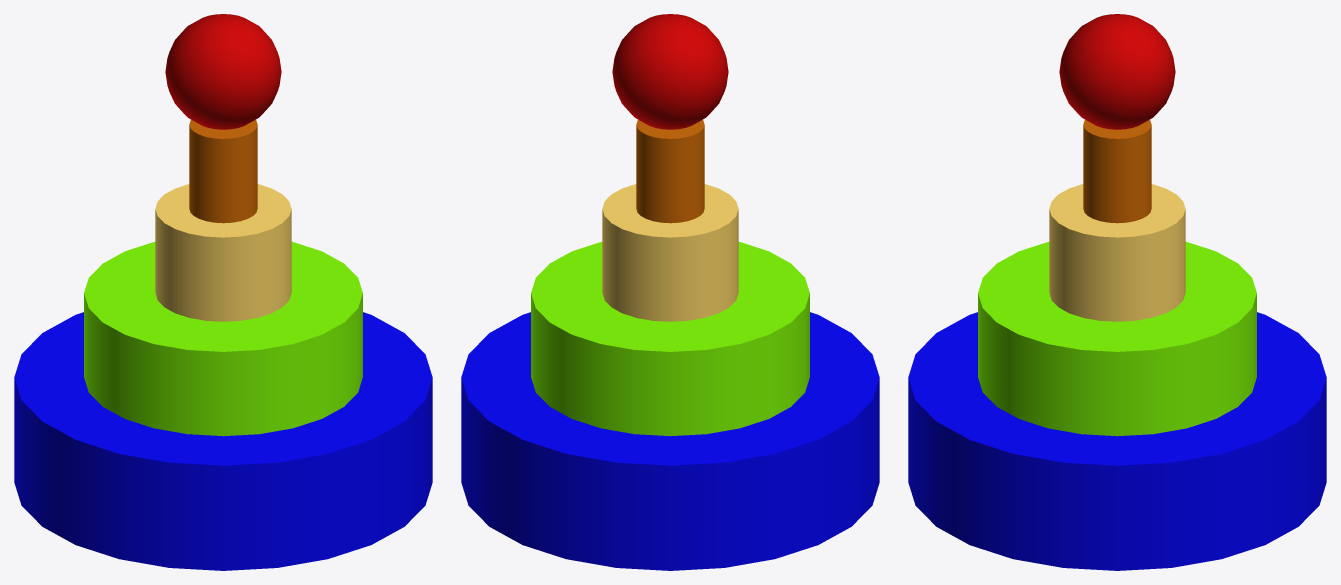
3 views of the same model, side by side, from view 1: azimuth 30°, elevation 25°; view 2: azimuth 150°, elevation 25°; view 3: azimuth 270°, elevation 25° (orthographic).
Visible parts, largest first — view 1: Layer0_001; view 2: Layer0_001; view 3: Layer0_001.
Boxes of the visible parts, x1,y1,x2,y2 form: Layer0_001: [14, 14, 432, 570]; Layer0_001: [461, 14, 879, 570]; Layer0_001: [908, 14, 1326, 570].
Size of the model in its own units: 180 by 220 by 180.
